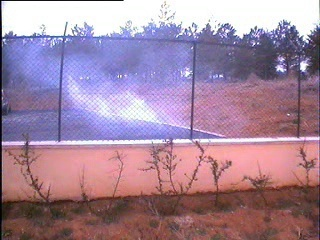smoke: (67, 39, 192, 134)
